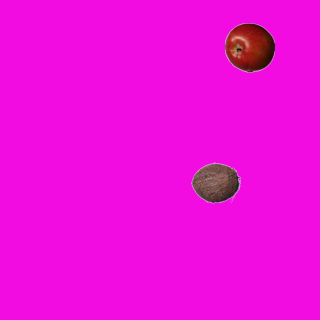Apple Braeburn: (224, 22, 274, 72)
Cocos: (190, 157, 240, 207)
